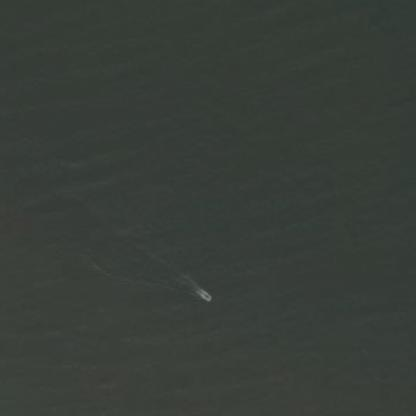ship: (190, 282, 215, 304)
